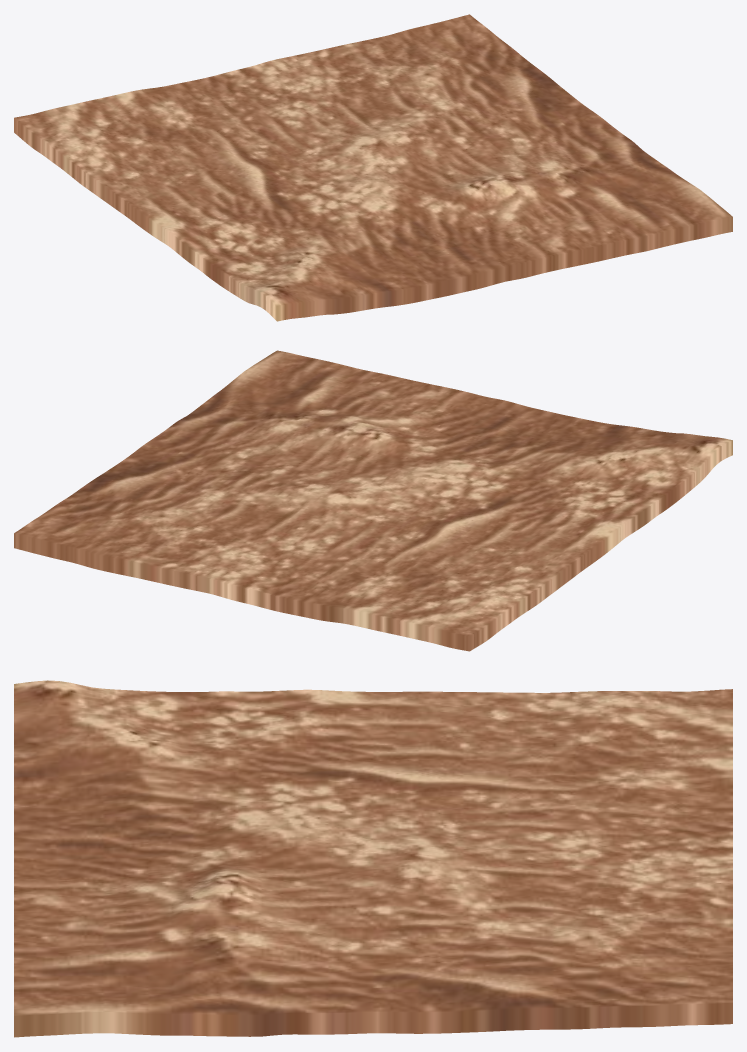
3 renders of one model, top to bottom at view 1: azimuth 30°, elevation 25°; view 2: azimuth 150°, elevation 25°; view 3: azimuth 270°, elevation 25°, orthographic. The views are drawn at different scales.
Parts seen in each view (by area): view 1: L7_69_50; view 2: L7_69_50; view 3: L7_69_50.
Part boxes in pixels (<box>): L7_69_50: <box>14,14,732,321</box>; L7_69_50: <box>14,350,732,651</box>; L7_69_50: <box>14,680,732,1037</box>.
Size of the model in its own units: 113 by 9.27 by 113.
1 material, 1 textured.
